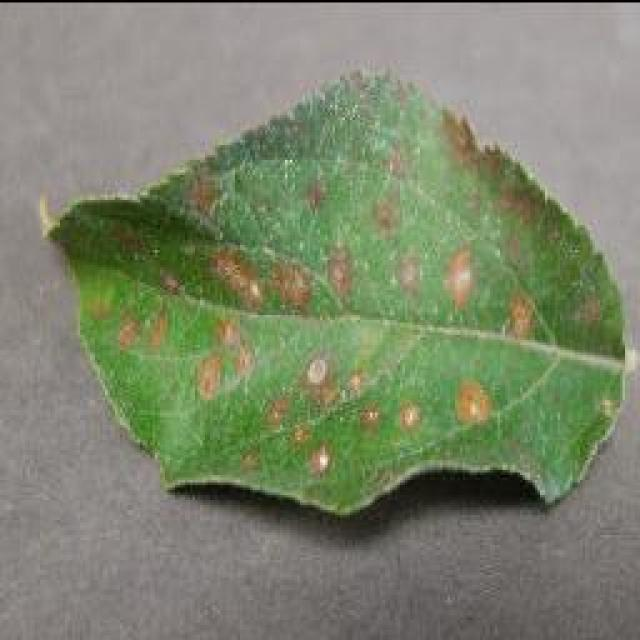apple cedar apple rust: (38, 65, 630, 517)
